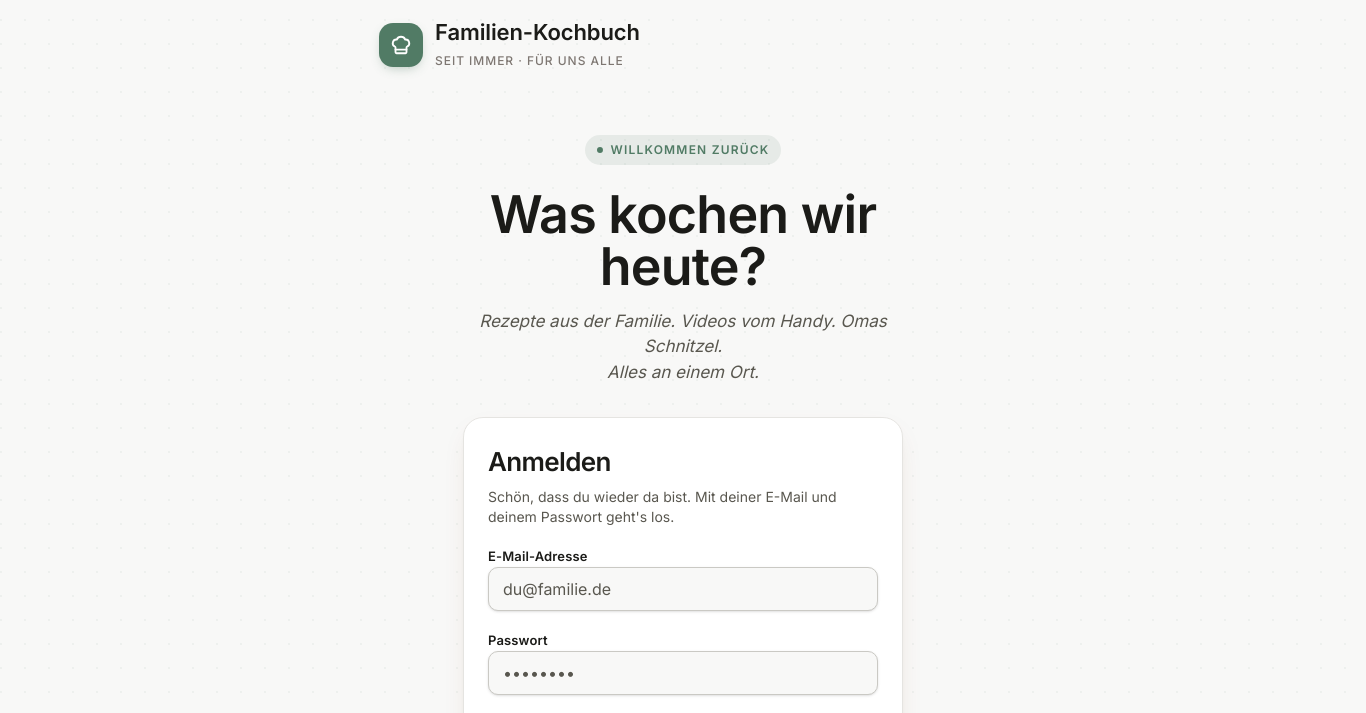
Test case: <LoginPage /> › shows a German error when submitted with an empty email
The width and height of the screenshot is (1366, 713).
In the password field labelled "Passwort": x=683, y=673 [488,651,878,695], type "geheim123"
(page scrolled)
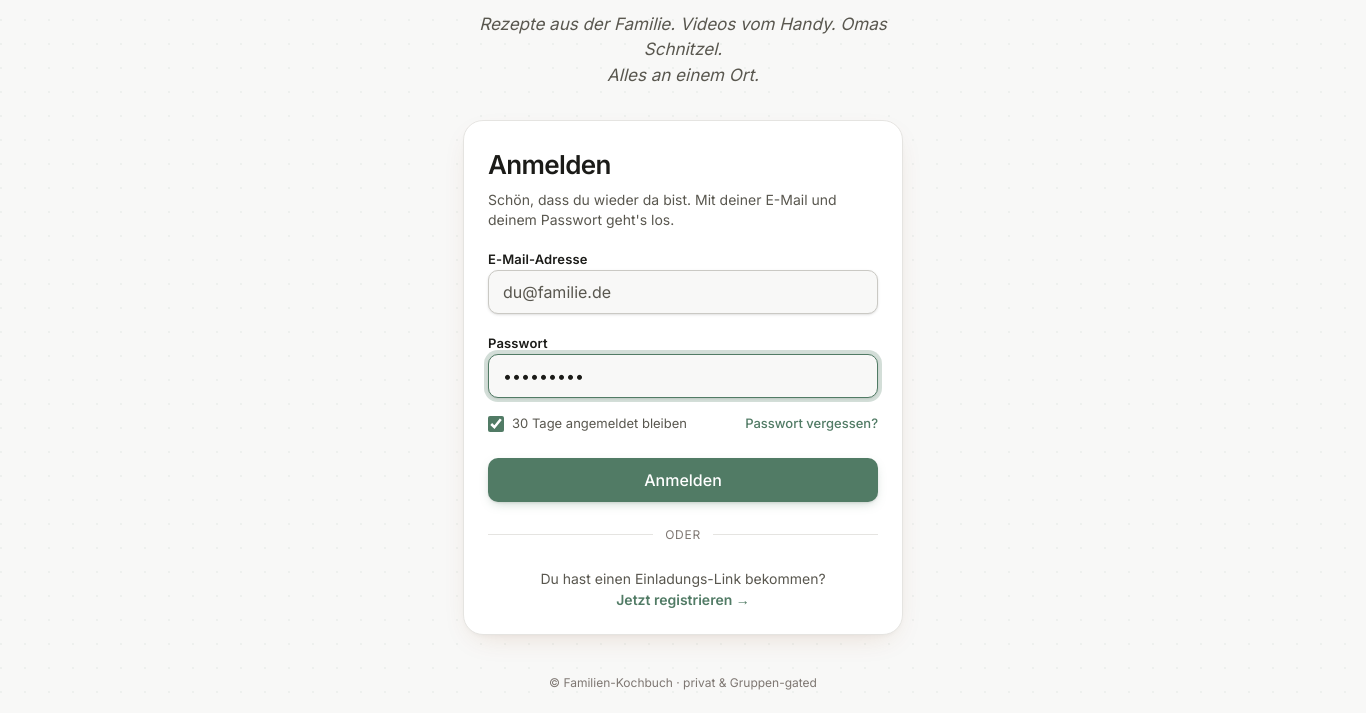
Click the button "Anmelden": x=683, y=480 [488,458,878,502]
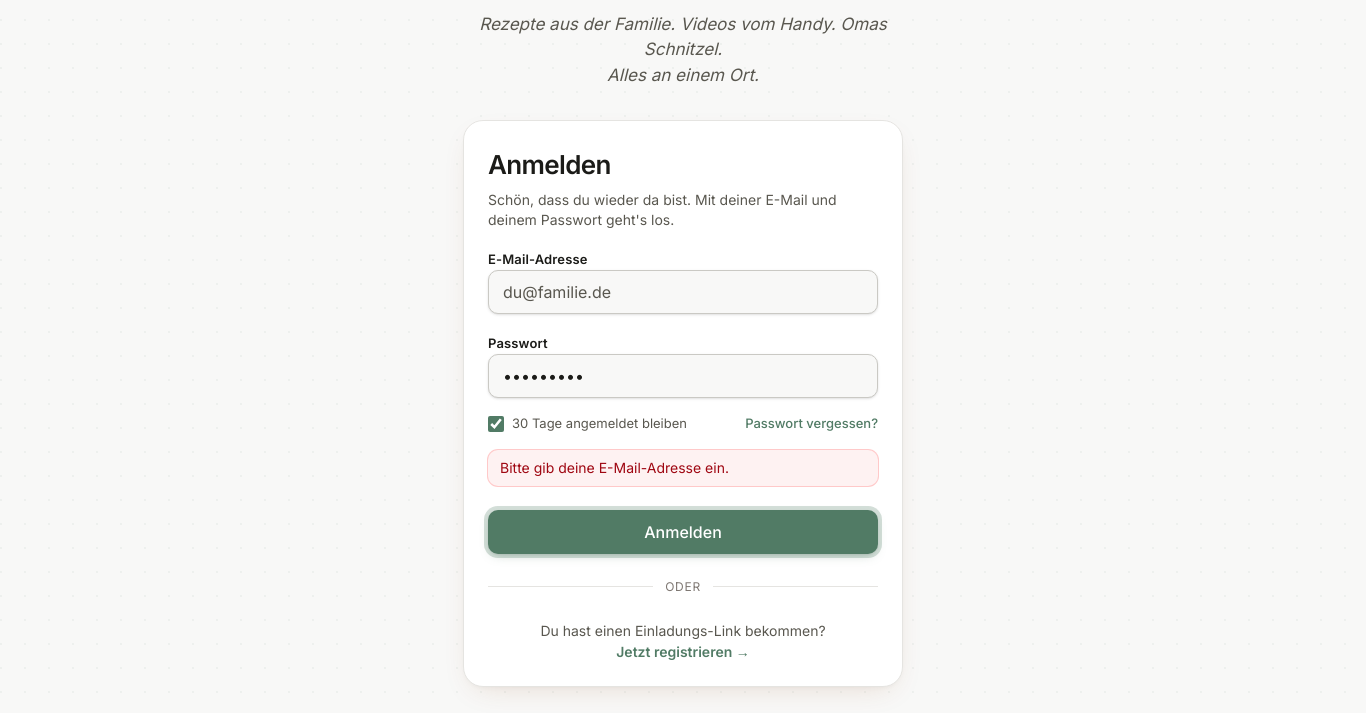
expect the message shows "E-Mail": met, box [500,458,729,476]
